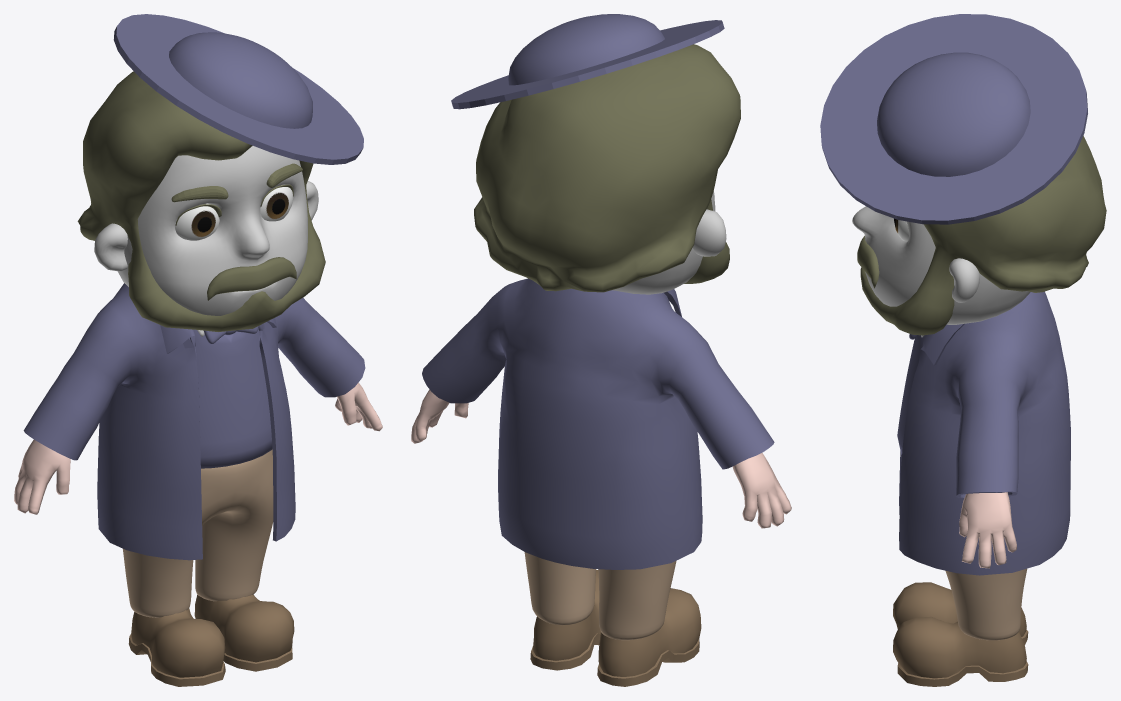
The model's file is monet_F_ver.1.1.fbx.
3 views of the same model, side by side, from view 1: azimuth 30°, elevation 25°; view 2: azimuth 150°, elevation 25°; view 3: azimuth 270°, elevation 25° (orthographic). The views are drawn at different scales.
Visible parts, largest first — view 1: jumper, hat, hair, face, pants, shoes, hand, beard, eye; view 2: jumper, hair, hat, pants, shoes, hand, face; view 3: hat, jumper, hair, shoes, face, pants, hand, beard.
Part boxes in pixels (bbox=[...]): jumper: bbox=[23, 283, 365, 560]; hat: bbox=[113, 14, 363, 164]; hair: bbox=[77, 71, 325, 331]; face: bbox=[94, 146, 318, 315]; pants: bbox=[123, 449, 273, 617]; shoes: bbox=[128, 594, 294, 686]; hand: bbox=[14, 382, 382, 514]; beard: bbox=[171, 163, 302, 300]; eye: bbox=[175, 187, 293, 240]; jumper: bbox=[422, 278, 774, 569]; hair: bbox=[474, 44, 740, 292]; hat: bbox=[451, 14, 724, 109]; pants: bbox=[524, 552, 676, 640]; shoes: bbox=[530, 570, 701, 686]; hand: bbox=[411, 389, 791, 528]; face: bbox=[612, 190, 726, 294]; hat: bbox=[820, 14, 1087, 224]; jumper: bbox=[897, 291, 1070, 575]; hair: bbox=[860, 135, 1106, 335]; shoes: bbox=[893, 582, 1028, 686]; face: bbox=[852, 206, 1030, 324]; pants: bbox=[945, 568, 1027, 640]; hand: bbox=[959, 492, 1016, 568]; beard: bbox=[857, 235, 879, 288].
Bounding box in the file's own units: 375 × 622 × 266.
